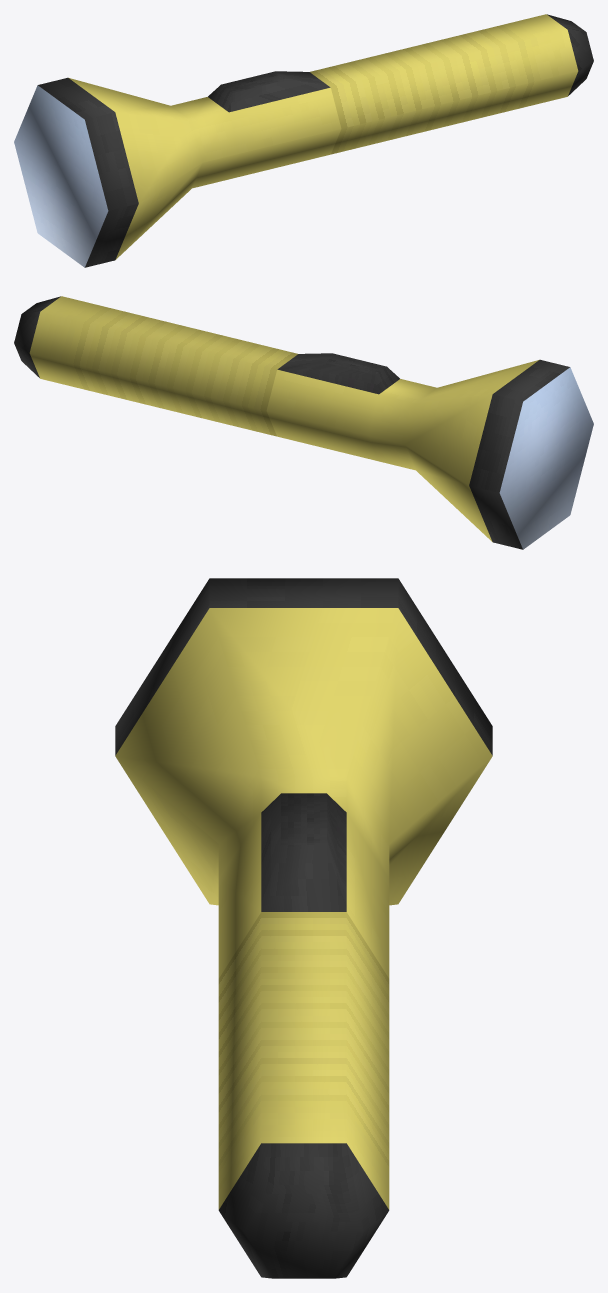
Rendered from Flashlight.fbx.
3 views of the same model, one above another, from view 1: azimuth 30°, elevation 25°; view 2: azimuth 150°, elevation 25°; view 3: azimuth 270°, elevation 25° (orthographic). The views are drawn at different scales.
Visible parts, largest first — view 1: Cylinder; view 2: Cylinder; view 3: Cylinder.
Part boxes in pixels (x1,y1,x2,y2): Cylinder: (14,14,593,267); Cylinder: (14,296,593,549); Cylinder: (115,578,492,1278).
Bounding box in the file's own units: 28 × 7.66 × 8.84.
